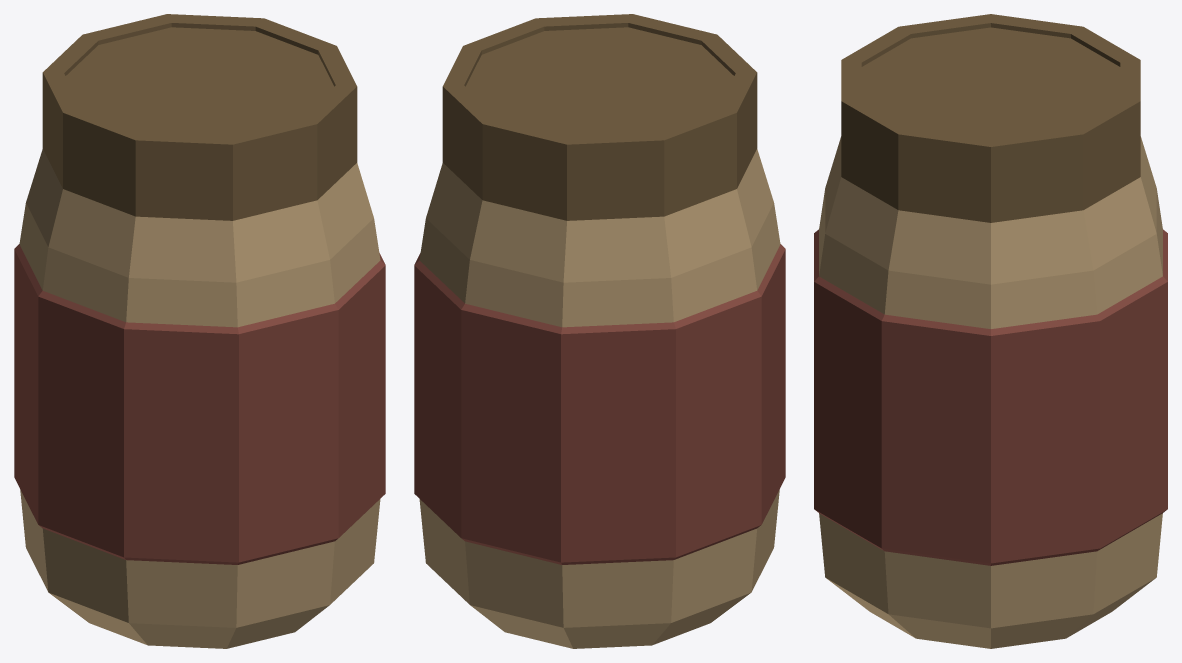
File: PeanutButter.glb
3 renders of one model, left to right at view 1: azimuth 30°, elevation 25°; view 2: azimuth 150°, elevation 25°; view 3: azimuth 270°, elevation 25°, orthographic.
Visible parts, largest first — view 1: PeanutButter; view 2: PeanutButter; view 3: PeanutButter.
Part boxes in pixels (left/top/right/bottom): PeanutButter: left=14, top=14, right=385, bottom=648; PeanutButter: left=414, top=14, right=785, bottom=648; PeanutButter: left=814, top=14, right=1167, bottom=648.
Size of the model in its own units: 0.4746 by 0.7243 by 0.4514.
